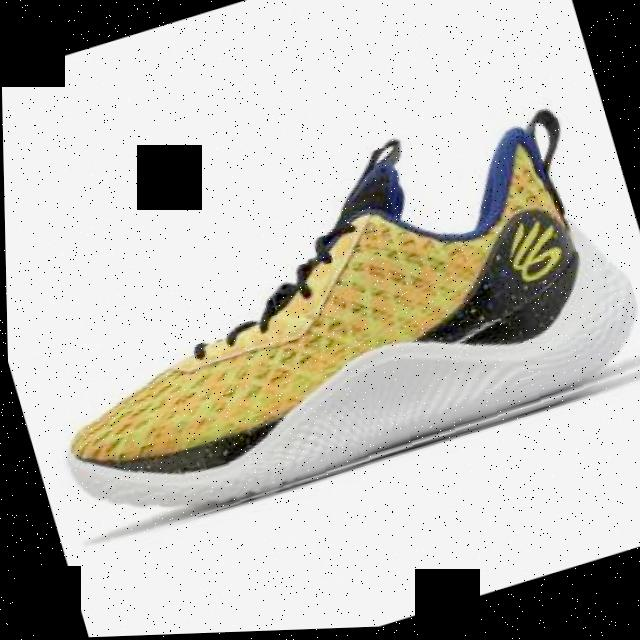shoe: (2, 91, 640, 556)
